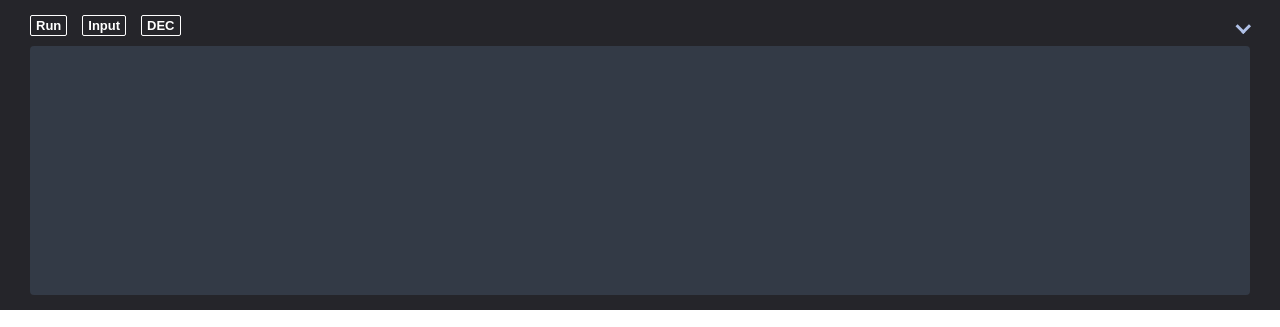
ControlPanel component › correct result in decimal
The image size is (1280, 327).
What coordinates should you click on to do the following:
click the button "Run"
I would click on:
 (49, 26)
Its box is [30, 15, 67, 36].
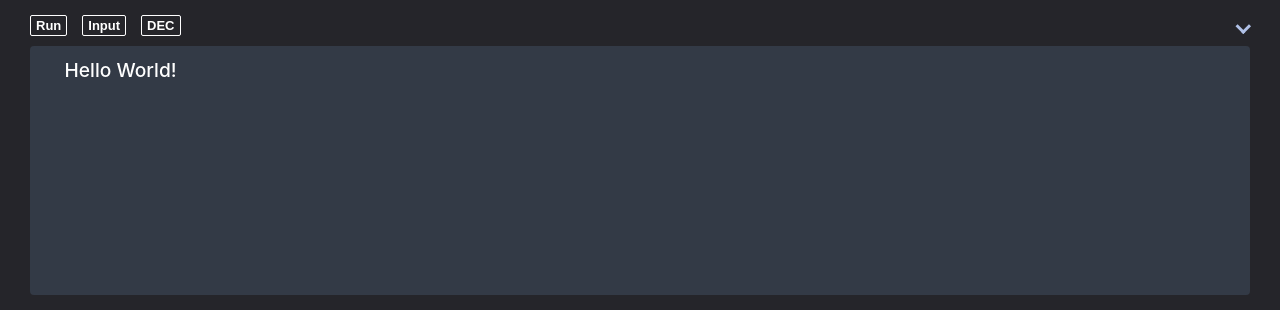
What coordinates should you click on to do the following:
click the button "DEC"
I would click on:
 (161, 26)
Its box is [141, 15, 180, 36].
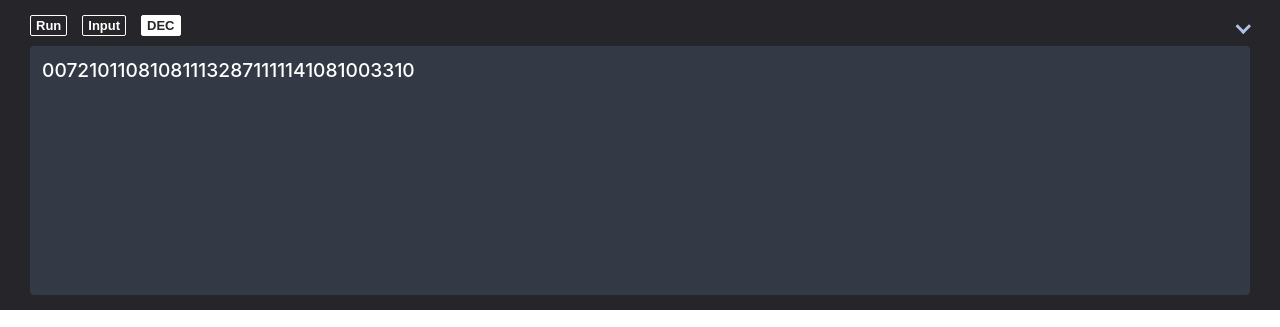
Now the text "007210110810811132871111141081003310" is shown, box [42, 58, 415, 82]
